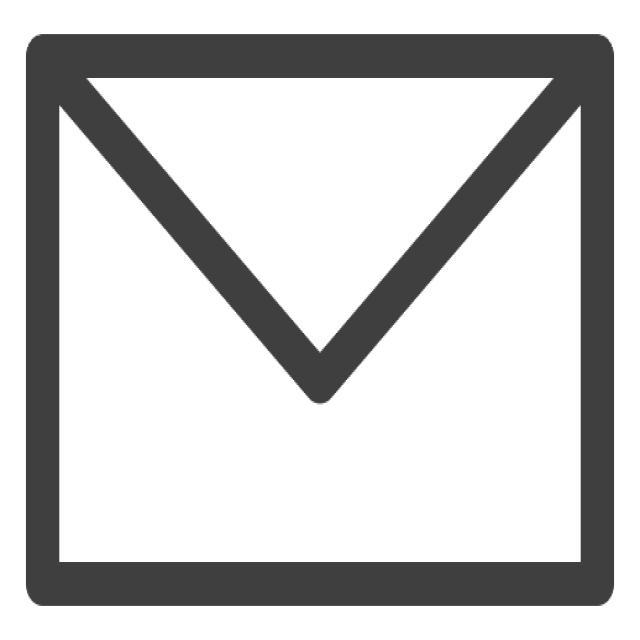letter: (14, 19, 626, 625)
